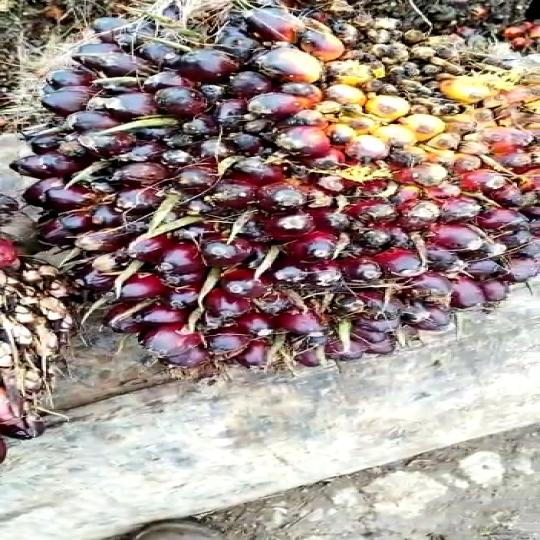kurang masak: (7, 0, 540, 395)
